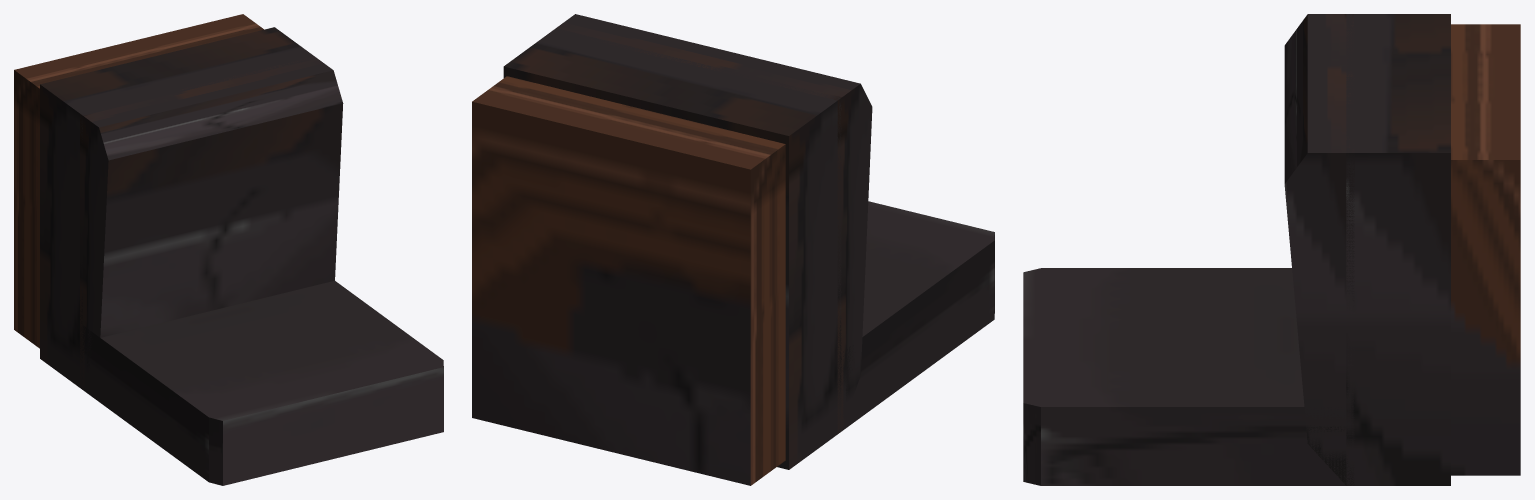
The model's file is pz_leather_bar_0_fidelity_r1.obj.
3 renders of one model, left to right at view 1: azimuth 30°, elevation 25°; view 2: azimuth 150°, elevation 25°; view 3: azimuth 270°, elevation 25°, orthographic. The views are drawn at different scales.
Visible parts, largest first — view 1: pz_leather_bar_0_fidelity_r1; view 2: pz_leather_bar_0_fidelity_r1; view 3: pz_leather_bar_0_fidelity_r1.
Boxes of the visible parts, bbox=[...] form: pz_leather_bar_0_fidelity_r1: bbox=[14, 14, 443, 485]; pz_leather_bar_0_fidelity_r1: bbox=[472, 14, 994, 485]; pz_leather_bar_0_fidelity_r1: bbox=[1023, 14, 1520, 485].
Size of the model in its own units: 0.85 by 0.95 by 1.28.
1 material, 1 textured.
